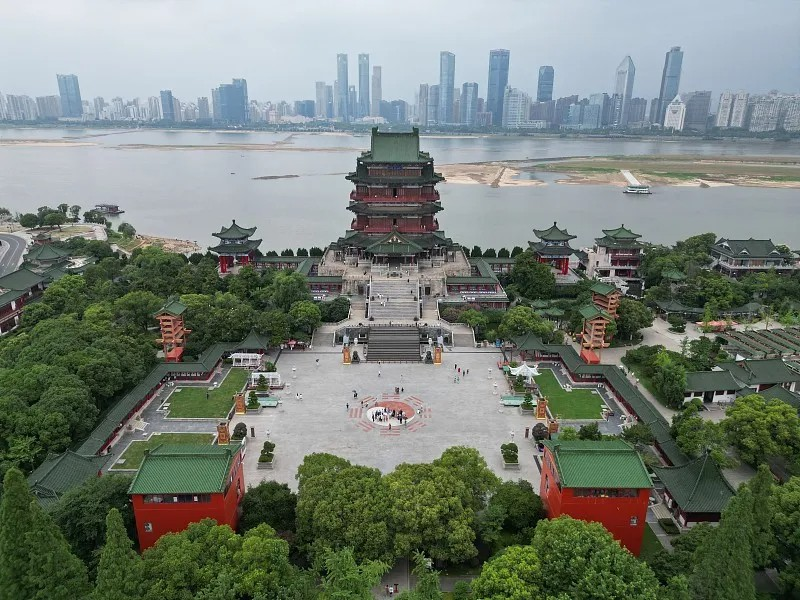Teng: (330, 129, 463, 269)
